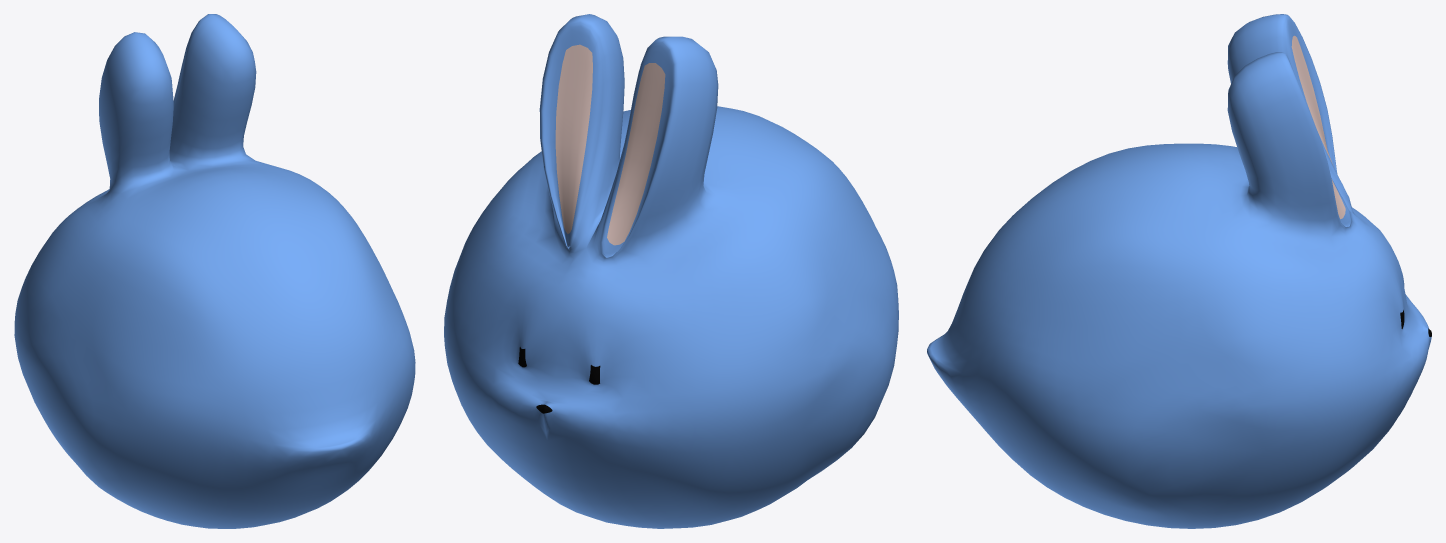
The model's file is prey_41.glb.
The picture shows the model from 3 angles, left to right: view 1: azimuth 30°, elevation 25°; view 2: azimuth 150°, elevation 25°; view 3: azimuth 270°, elevation 25°; orthographic projection. The views are drawn at different scales.
Visible parts, largest first — view 1: Cube; view 2: Cube; view 3: Cube.
Boxes of the visible parts, <box> form: Cube: <box>14,14,415,528</box>; Cube: <box>444,14,898,528</box>; Cube: <box>927,14,1431,528</box>.
Bounding box in the file's own units: 4.03 × 5.34 × 5.15.
